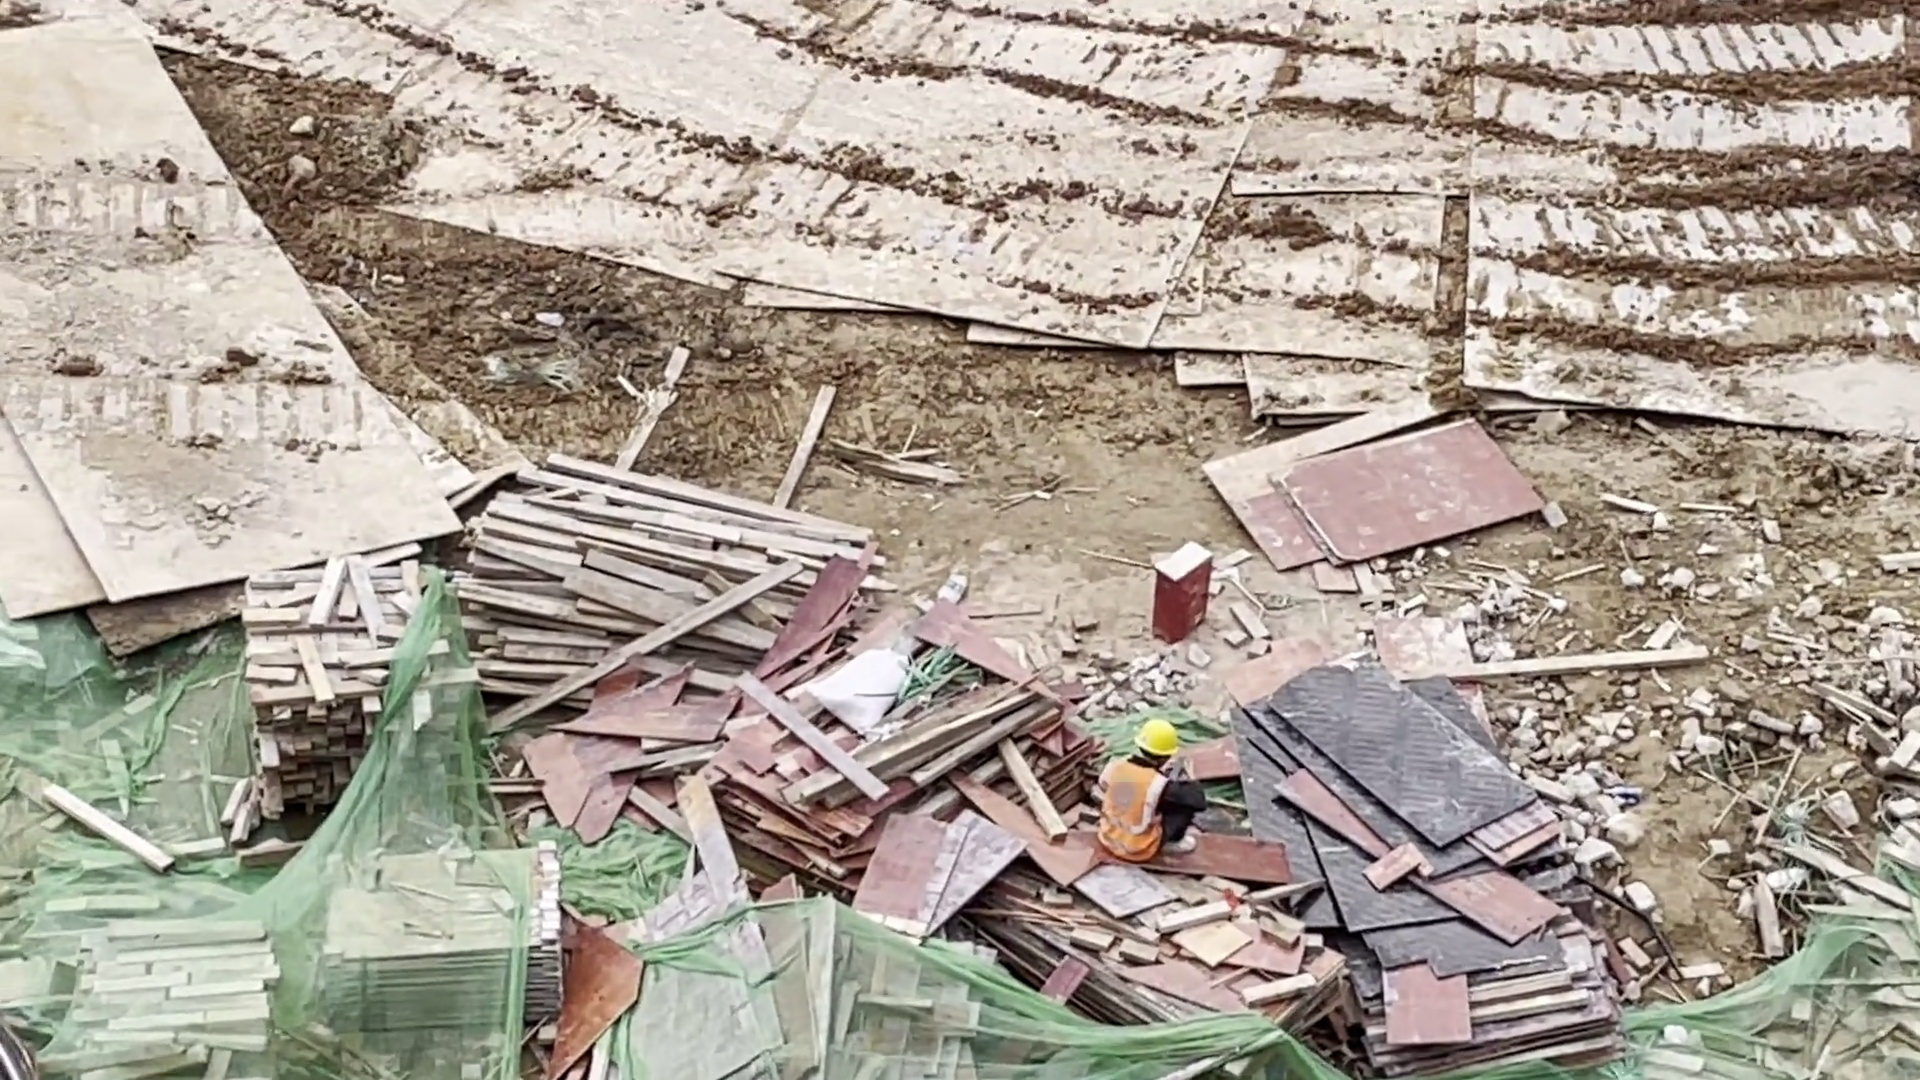board: (1275, 672, 1580, 1065), (320, 854, 570, 1016)
helmet: (1137, 716, 1182, 756)
person: (1096, 719, 1198, 861)
vest: (1104, 756, 1166, 859)
wood: (258, 579, 450, 786)
